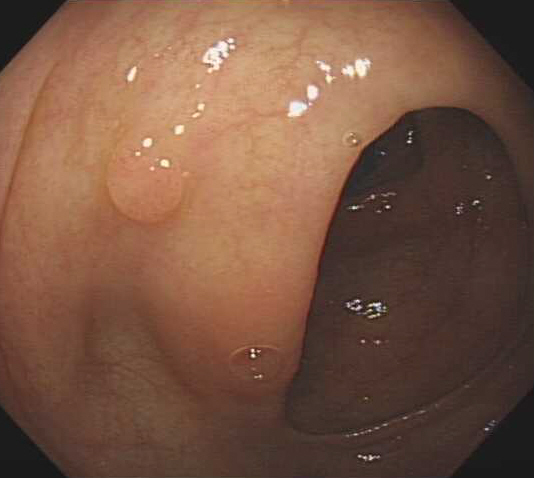adenoma: (104, 132, 186, 224)
